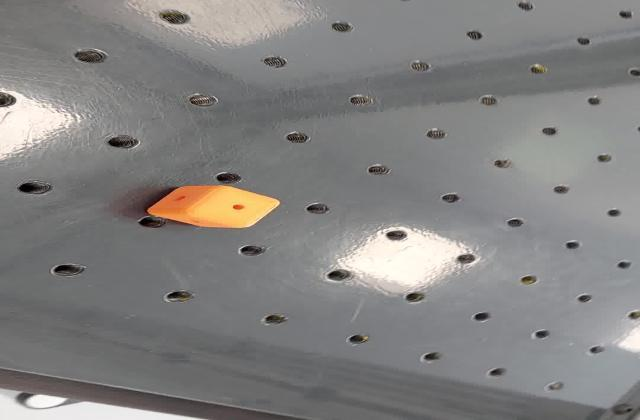cube: (138, 183, 289, 230)
